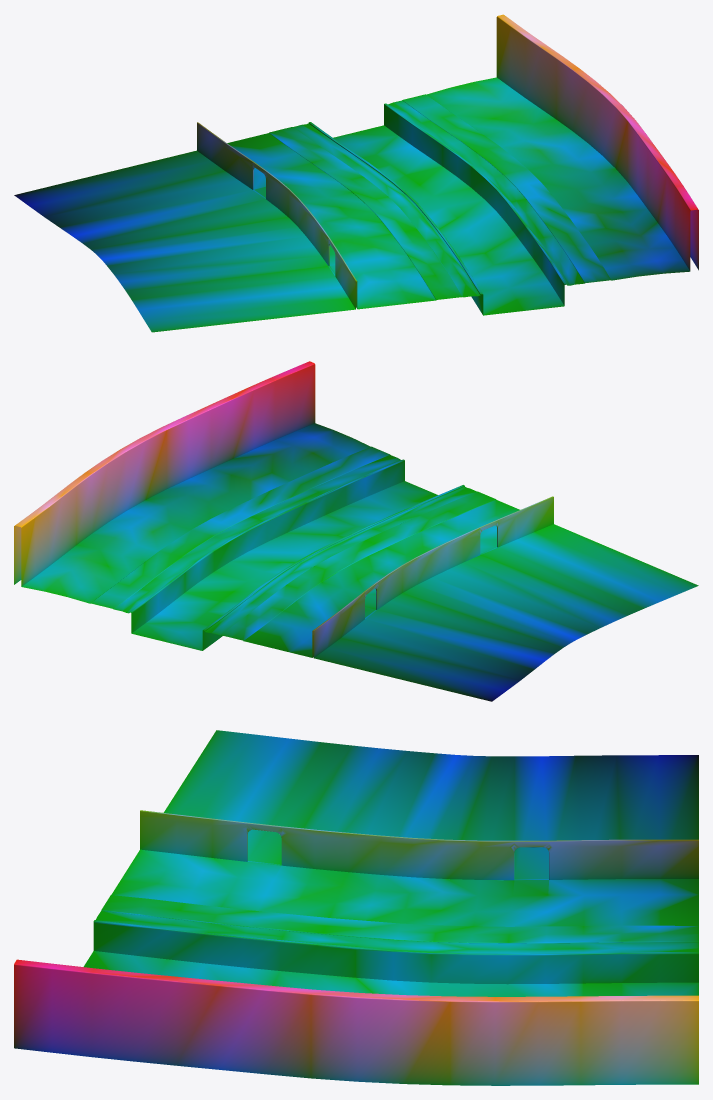
The model's file is SM_WaterWay.fbx.
3 renders of one model, top to bottom at view 1: azimuth 30°, elevation 25°; view 2: azimuth 150°, elevation 25°; view 3: azimuth 270°, elevation 25°, orthographic. The views are drawn at different scales.
Visible parts, largest first — view 1: SM_WaterWay; view 2: SM_WaterWay; view 3: SM_WaterWay.
Boxes of the visible parts, <box> form: SM_WaterWay: <box>14,14,698,332</box>; SM_WaterWay: <box>14,361,698,701</box>; SM_WaterWay: <box>14,730,698,1085</box>.
Bounding box in the file's own units: 54.28 × 8 × 44.17.
